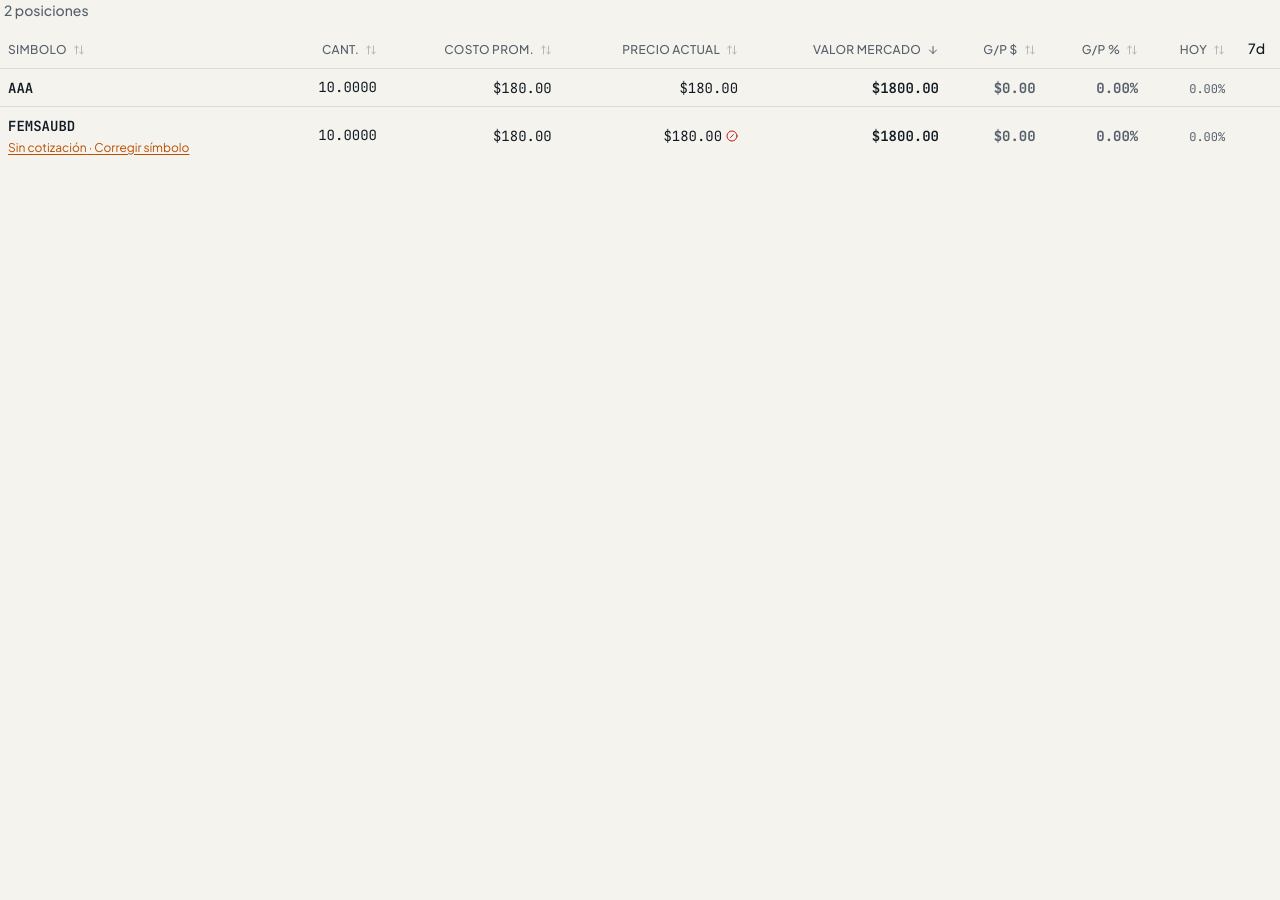
it: correcting a position's symbol › shows why the server refused the new symbol
Click the button "Sin cotización · Corregir símbolo" at (99, 148), box [8,140,190,156]
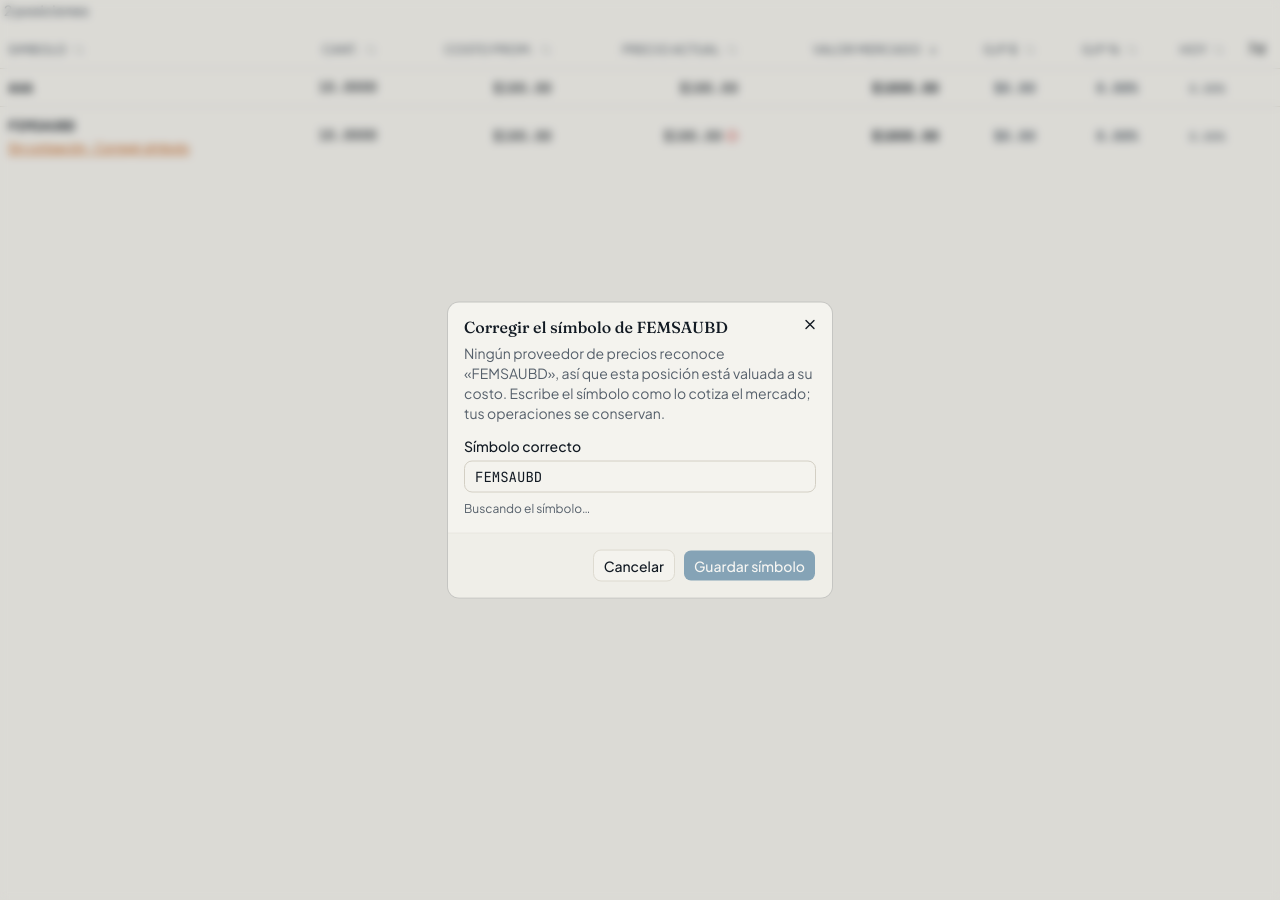
Replace the text in the field labelled "Símbolo correcto" with "otro" at (640, 476), box [464,460,816,492]
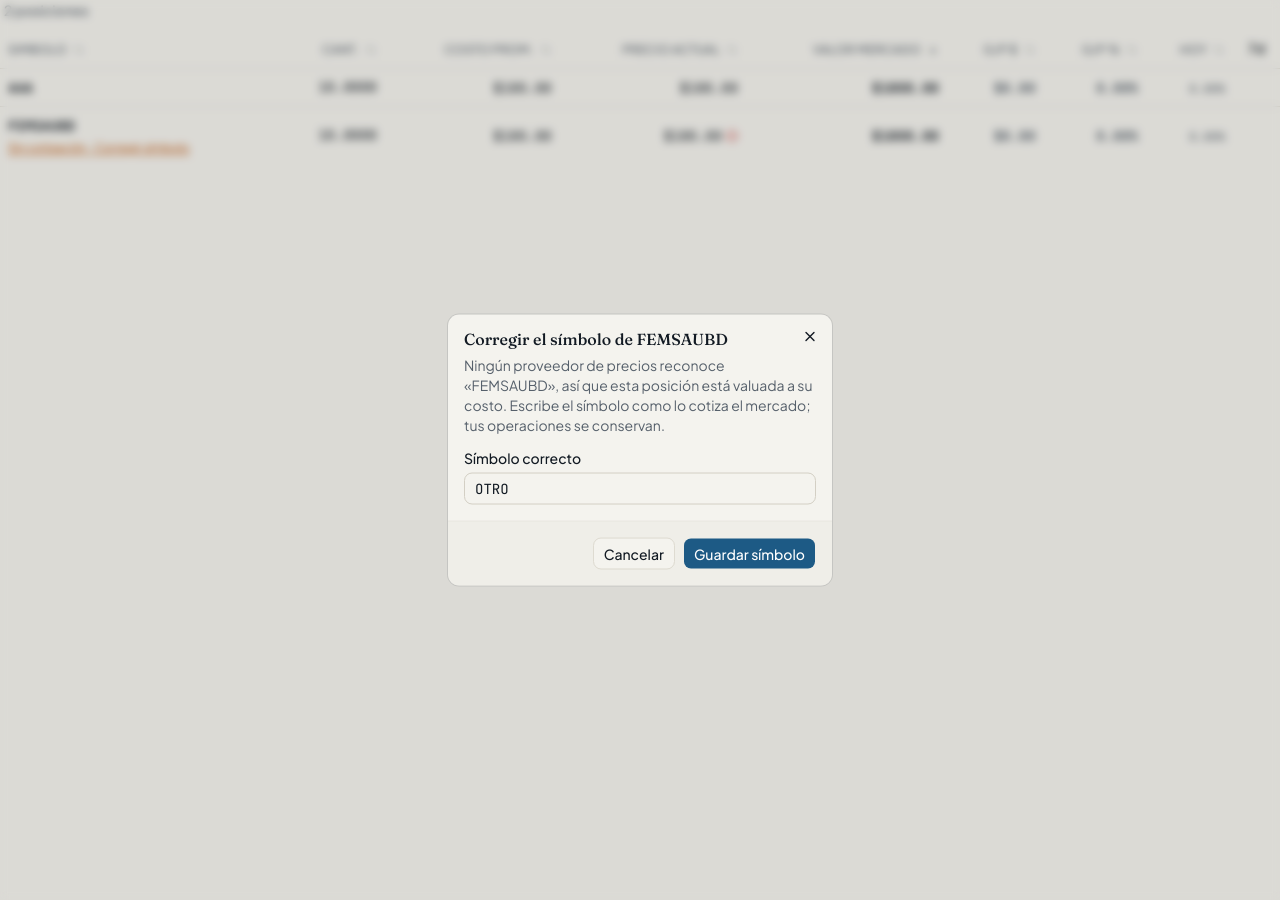
Click the button "Guardar símbolo" at (749, 554), box [683,538,816,570]
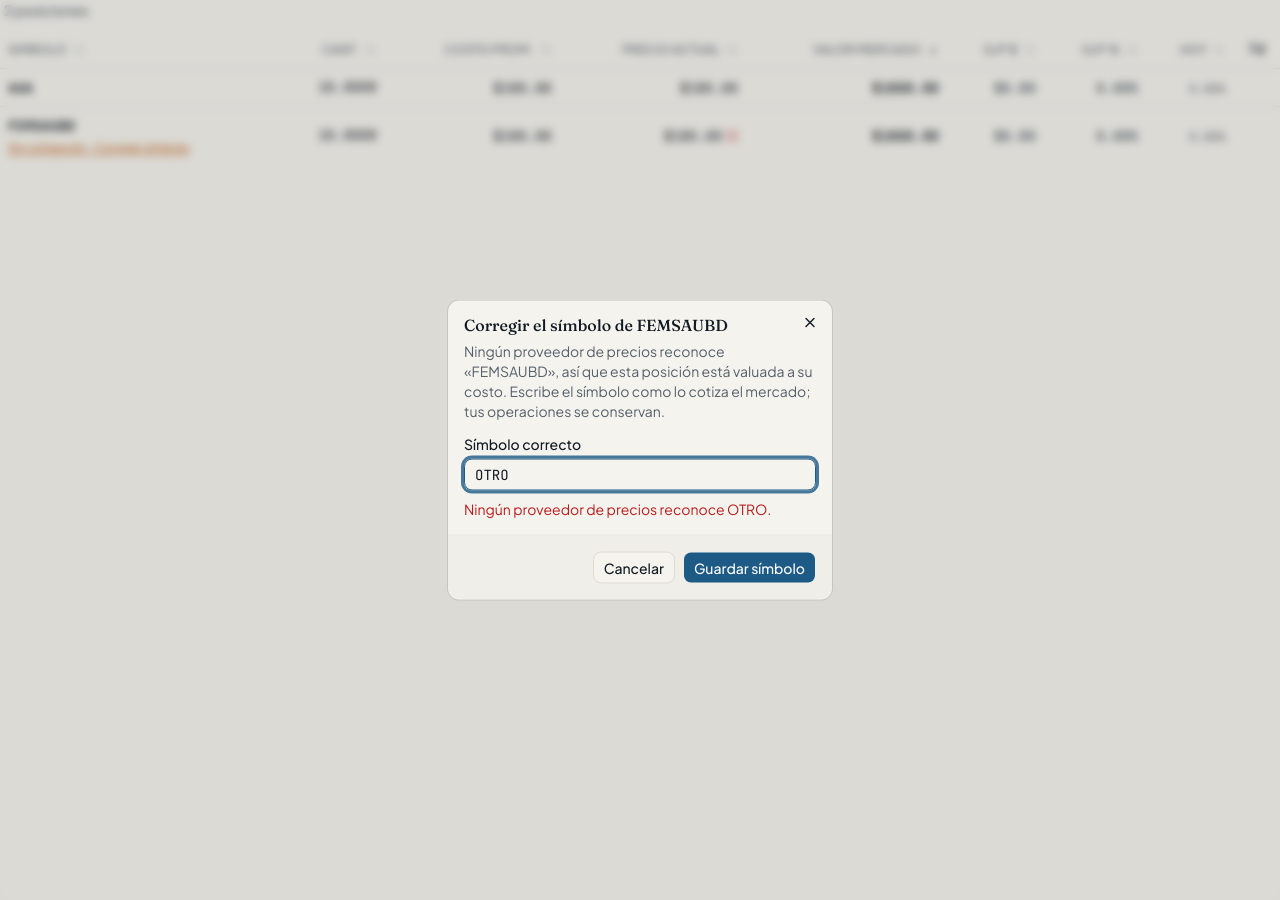
Expected: the message reads "Ningún proveedor de precios reconoce OTRO.", [464,500,771,518]
